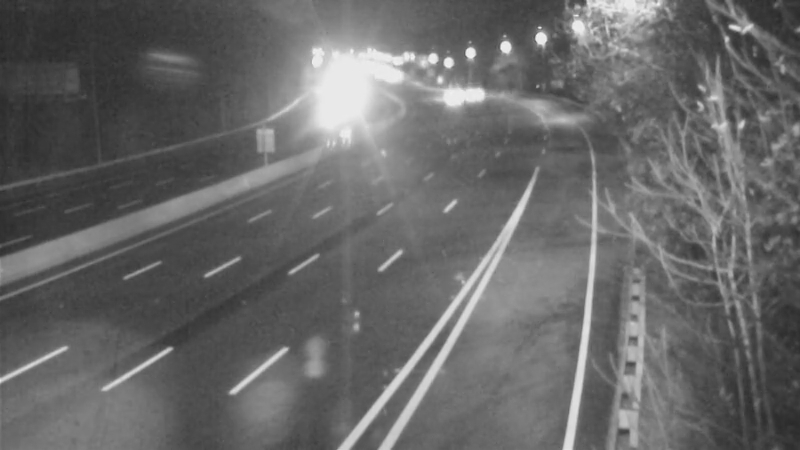vehicle: (425, 70, 475, 120), (449, 67, 499, 117), (313, 75, 363, 125)
